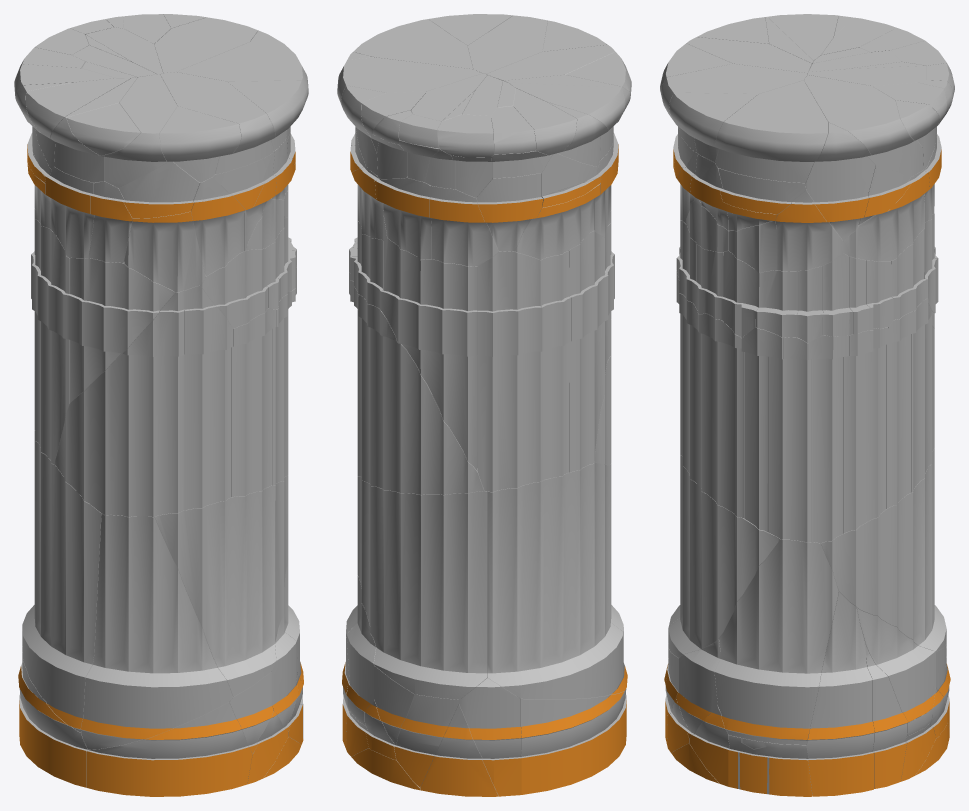
3 renders of one model, left to right at view 1: azimuth 30°, elevation 25°; view 2: azimuth 150°, elevation 25°; view 3: azimuth 270°, elevation 25°, orthographic.
Visible parts, largest first — view 1: Cylinder.004_cell.142, Cylinder.004_cell.101, Cylinder.004_cell.190, Cylinder.004_cell.092, Cylinder.004_cell.132, Cylinder.004_cell.171, Cylinder.004_cell.111, Cylinder.004_cell.043, Cylinder.004_cell.012, Cylinder.004_cell.060, Cylinder.004_cell.032, Cylinder.004_cell.198 (+37 smaller); view 2: Cylinder.004_cell.092, Cylinder.004_cell.013, Cylinder.004_cell.181, Cylinder.004_cell.166, Cylinder.004_cell.208, Cylinder.004_cell.198, Cylinder.004_cell.012, Cylinder.004_cell.128, Cylinder.004_cell.049, Cylinder.004_cell.105, Cylinder.004_cell.196, Cylinder.004_cell.140 (+44 smaller); view 3: Cylinder.004_cell.070, Cylinder.004_cell.013, Cylinder.004_cell.190, Cylinder.004_cell.175, Cylinder.004_cell.202, Cylinder.004_cell.067, Cylinder.004_cell.072, Cylinder.004_cell.122, Cylinder.004_cell.016, Cylinder.004_cell.105, Cylinder.004_cell.086, Cylinder.004_cell.177 (+55 smaller).
Boxes of the visible parts, x1,y1,x2,y2 form: Cylinder.004_cell.142: [81, 514, 233, 749]; Cylinder.004_cell.101: [54, 291, 184, 517]; Cylinder.004_cell.190: [155, 476, 288, 696]; Cylinder.004_cell.092: [22, 431, 101, 732]; Cylinder.004_cell.132: [86, 702, 252, 796]; Cylinder.004_cell.171: [184, 286, 233, 510]; Cylinder.004_cell.111: [66, 258, 175, 403]; Cylinder.004_cell.043: [232, 308, 276, 496]; Cylinder.004_cell.012: [36, 224, 68, 464]; Cylinder.004_cell.060: [160, 72, 275, 174]; Cylinder.004_cell.032: [124, 211, 205, 292]; Cylinder.004_cell.198: [18, 647, 87, 787]; Cylinder.004_cell.092: [487, 463, 626, 699]; Cylinder.004_cell.013: [357, 476, 487, 699]; Cylinder.004_cell.181: [477, 251, 542, 491]; Cylinder.004_cell.166: [367, 304, 483, 494]; Cylinder.004_cell.208: [419, 259, 477, 471]; Cylinder.004_cell.198: [521, 689, 626, 794]; Cylinder.004_cell.012: [569, 231, 608, 472]; Cylinder.004_cell.128: [540, 251, 571, 481]; Cylinder.004_cell.049: [459, 678, 521, 796]; Cylinder.004_cell.105: [337, 57, 481, 175]; Cylinder.004_cell.196: [429, 186, 498, 266]; Cylinder.004_cell.140: [420, 704, 498, 796]; Cylinder.004_cell.070: [714, 539, 838, 744]; Cylinder.004_cell.013: [821, 449, 946, 651]; Cylinder.004_cell.190: [668, 455, 779, 657]; Cylinder.004_cell.175: [806, 592, 874, 796]; Cylinder.004_cell.202: [715, 80, 828, 183]; Cylinder.004_cell.067: [843, 328, 888, 533]; Cylinder.004_cell.072: [698, 313, 743, 518]; Cylinder.004_cell.122: [808, 335, 848, 543]; Cylinder.004_cell.016: [782, 337, 811, 542]; Cylinder.004_cell.105: [804, 75, 923, 176]; Cylinder.004_cell.086: [741, 327, 783, 531]; Cylinder.004_cell.177: [805, 122, 875, 241].
Bounding box in the file's own units: 250 × 621 × 250.
